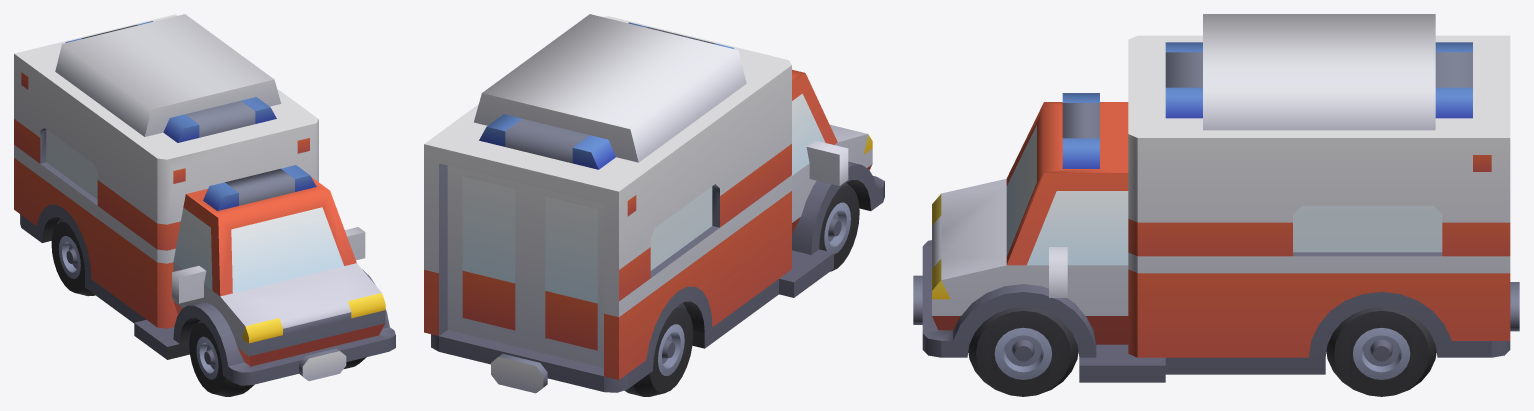
File: ambulance.glb
3 renders of one model, left to right at view 1: azimuth 30°, elevation 25°; view 2: azimuth 150°, elevation 25°; view 3: azimuth 270°, elevation 25°, orthographic. The views are drawn at different scales.
Visible parts, largest first — view 1: body, wheel-front-right, wheel-back-right; view 2: body, door-left, door-right, wheel-back-right, wheel-front-right; view 3: body, wheel-back-left, wheel-front-left.
Part boxes in pixels (<box>): body: <box>14,14,395,385</box>; wheel-front-right: <box>189,320,254,396</box>; wheel-back-right: <box>51,219,95,296</box>; body: <box>424,14,884,393</box>; door-left: <box>447,165,530,349</box>; door-right: <box>530,186,603,367</box>; wheel-back-right: <box>624,304,693,396</box>; wheel-front-right: <box>819,183,859,271</box>; body: <box>913,14,1519,382</box>; wheel-back-left: <box>1326,307,1436,396</box>; wheel-front-left: <box>968,307,1078,396</box>.
Size of the model in its own units: 1.5 by 1.8 by 3.25.
Materials: 1 (1 with a texture image).
